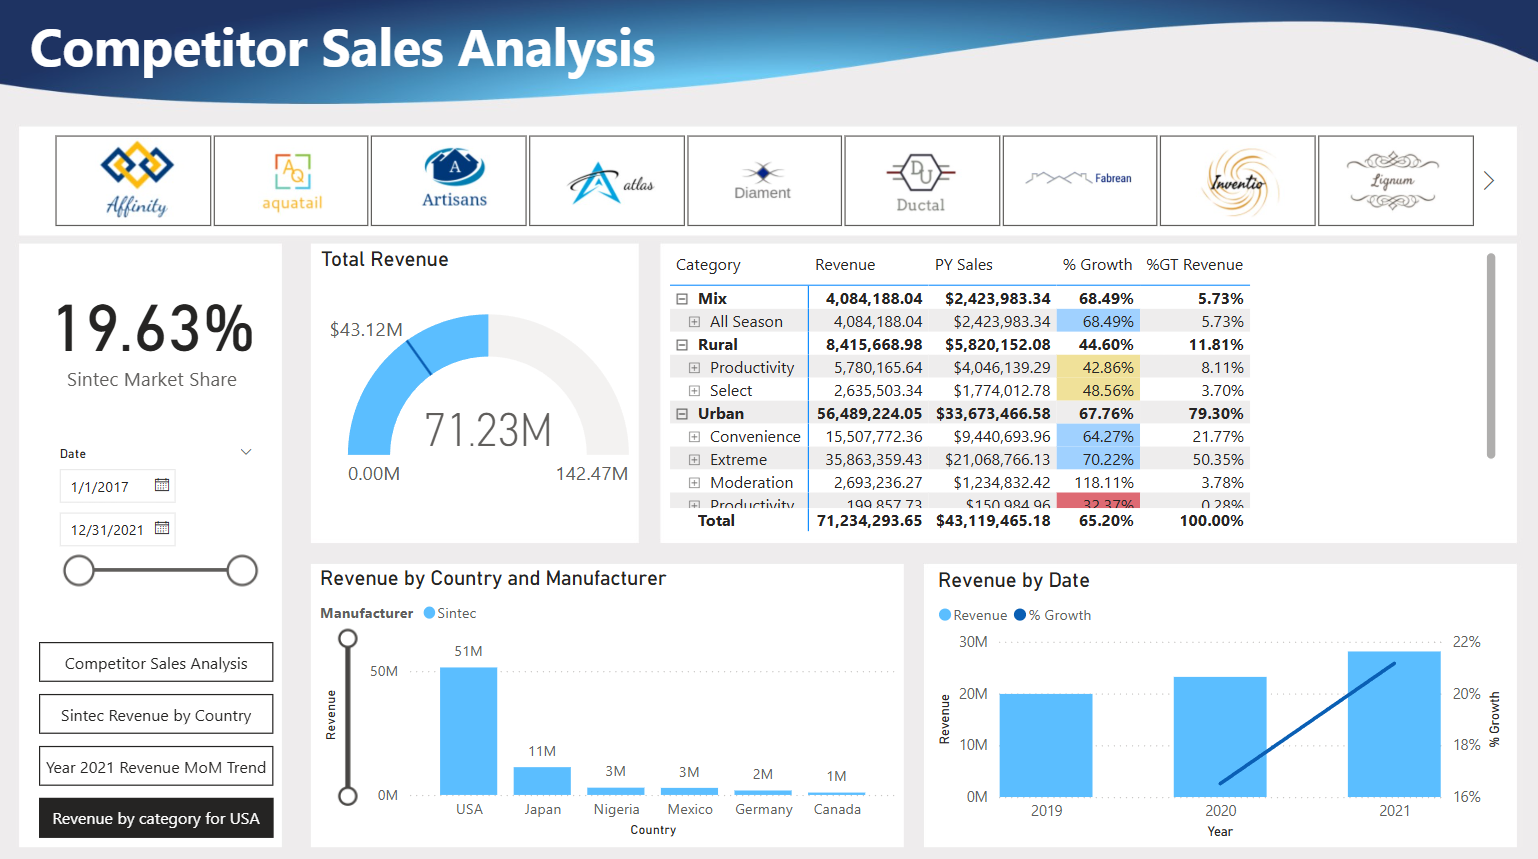

The dashboard page shown, as its layout file describes it:
{"tool":"powerbi","page":{"name":"Competitor Sales Analysis","canvas":[1280,720],"ordinal":0},"visuals":[{"type":"columnChart","fields":{"Category":["Sales.Country"],"Y":["Sum(Sales.Revenue)"],"Series":["Manufacturer.Manufacturer"]},"box":[263.9,472.7,487.3,228.6],"z":0},{"type":"gauge","title":"Total Revenue","fields":{"Y":["Sum(Sales.Revenue)"],"TargetValue":["Sales.PY Sales"]},"box":[264.8,208.7,264.8,239.8],"z":1000},{"type":"lineClusteredColumnComboChart","title":"Revenue by Date","fields":{"Category":["Date.Date.Variation.Date Hierarchy.Year","Date.Date.Variation.Date Hierarchy.Quarter","Date.Date.Variation.Date Hierarchy.Month","Date.Date.Variation.Date Hierarchy.Day"],"Y":["Sum(Sales.Revenue)"],"Y2":["Sales.% Growth"]},"box":[775.4,474.4,476.1,228.6],"z":2000},{"type":"slicer","fields":{"Values":["Manufacturer.Logo"]},"box":[24.3,108.9,1223.6,88.5],"z":3000},{"type":"slicer","fields":{"Values":["Date.Date"]},"box":[40.5,368.3,184.6,141.5],"z":4000},{"type":"pivotTable","fields":{"Values":["Sum(Sales.Revenue)","Sales.PY Sales","Sales.% Growth","Divide(Sum(Sales.Revenue), ScopedEval(Sum(Sales.Revenue), []))"],"Rows":["Products.Category Hierarchy.Category","Products.Category Hierarchy.Segment","Products.Category Hierarchy.Product"]},"box":[553.7,207.9,694.3,240.6],"z":5000},{"type":"card","fields":{"Values":["Sales.Sintec Market Share"]},"box":[28.5,208.7,203.6,140.6],"z":6000},{"type":"textbox","box":[24.3,7.8,552.5,88.5],"z":7000},{"type":"bookmarkNavigator","box":[36.3,535.4,194.5,164.1],"z":8000}]}

Visuals, with their boxes in screenshot pixels (x1, y1, x2, y2), scaled from the page's 1280x720 canvas onto the 1538x859 screenshot:
columnChart - Sales.Country x Sum(Sales.Revenue): l=317, t=564, r=903, b=837
"Total Revenue" gauge: l=318, t=249, r=636, b=535
"Revenue by Date" lineClusteredColumnComboChart: l=932, t=566, r=1504, b=839
slicer - Manufacturer.Logo: l=29, t=130, r=1499, b=236
slicer - Date.Date: l=49, t=439, r=270, b=608
pivotTable - Sum(Sales.Revenue) x Sales.PY Sales: l=665, t=248, r=1500, b=535
card - Sales.Sintec Market Share: l=34, t=249, r=279, b=417
textbox: l=29, t=9, r=693, b=115
bookmarkNavigator: l=44, t=639, r=277, b=835
